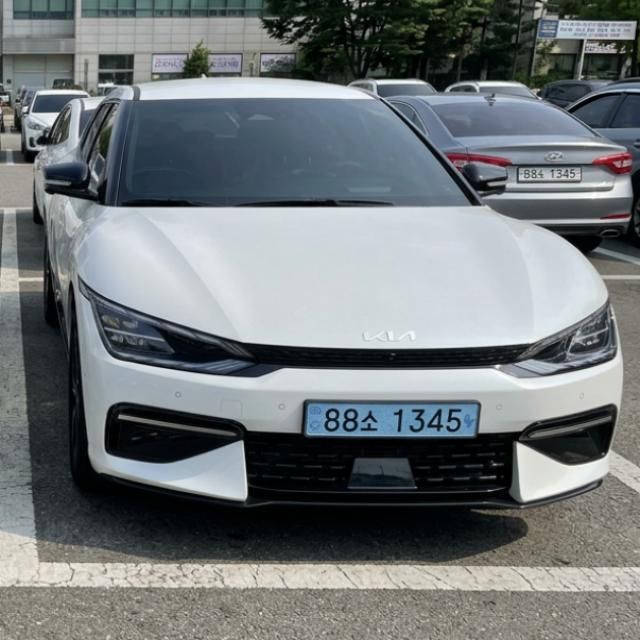car: (288, 393, 501, 456)
carev: (302, 396, 325, 444), (461, 401, 482, 442)
